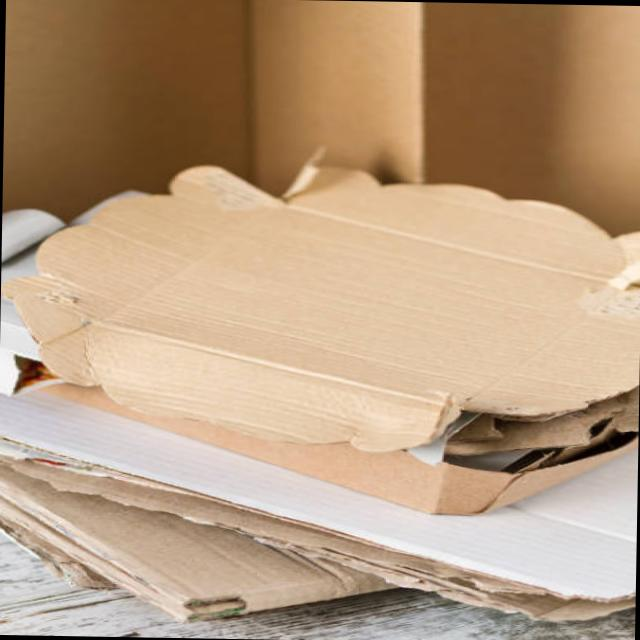electronic: (0, 145, 640, 626)
